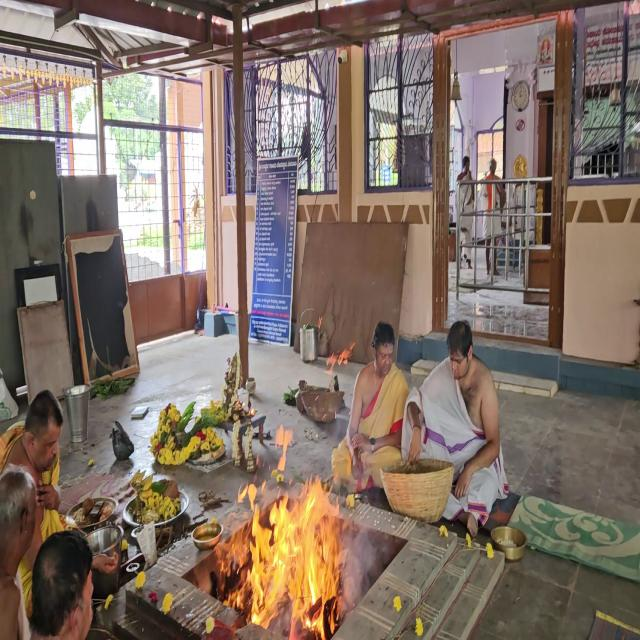fire: (227, 443, 352, 640)
